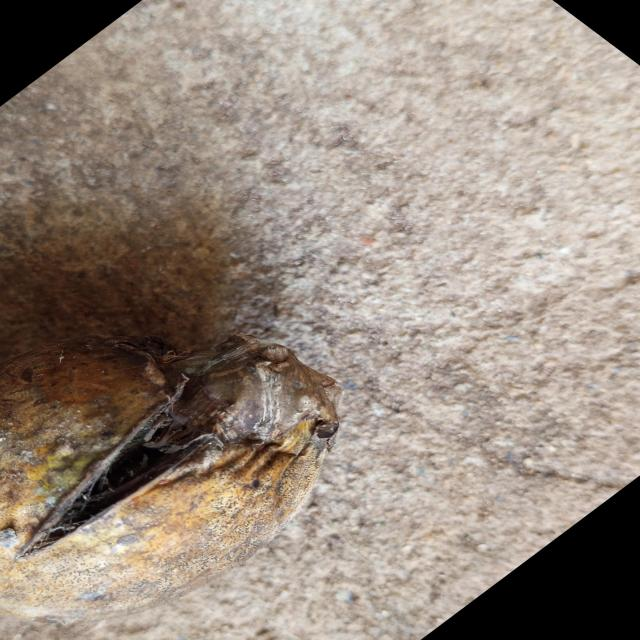damaged: (0, 344, 350, 623)
